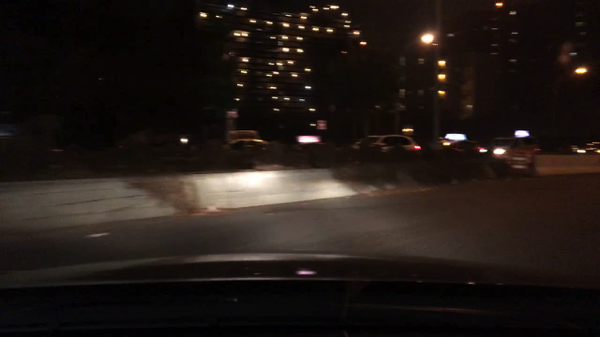car: (485, 129, 542, 156), (352, 133, 419, 154), (429, 130, 478, 154), (224, 130, 272, 150), (568, 139, 598, 152)
traffic sign: (224, 107, 239, 118), (316, 120, 327, 128)
